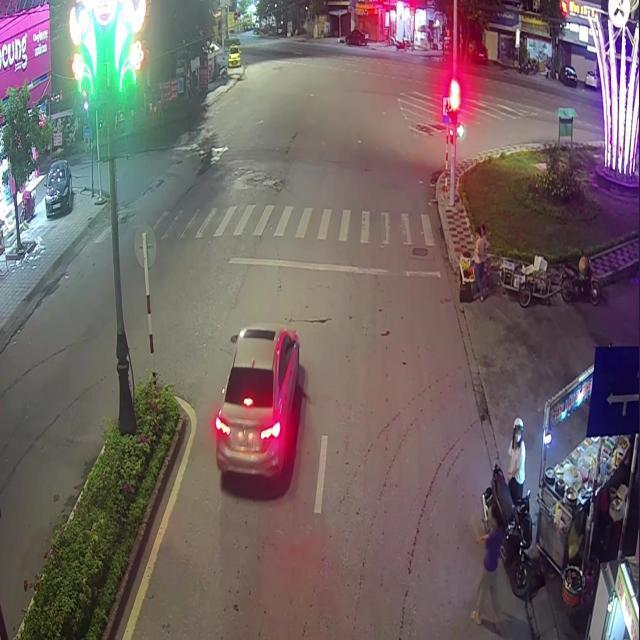car: (215, 322, 299, 480)
motobike: (491, 482, 532, 598)
red_light: (450, 92, 457, 125)
stop_line: (226, 256, 440, 277)
